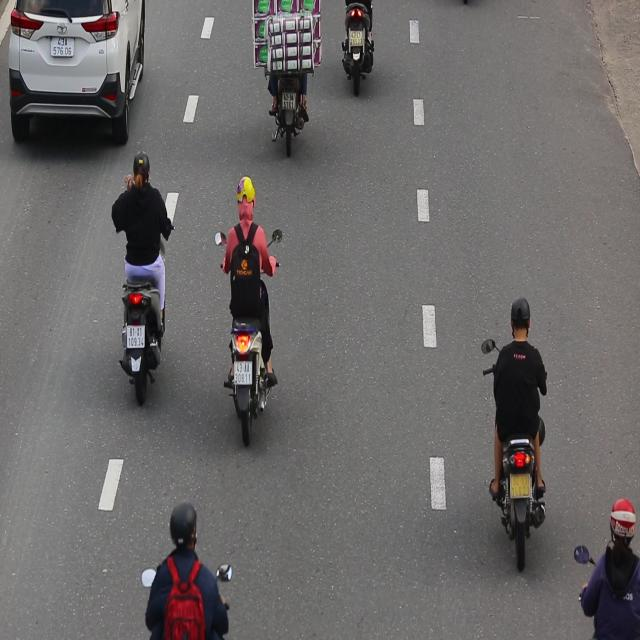motorbike: (481, 298, 553, 572), (214, 177, 286, 448), (110, 150, 174, 405)
